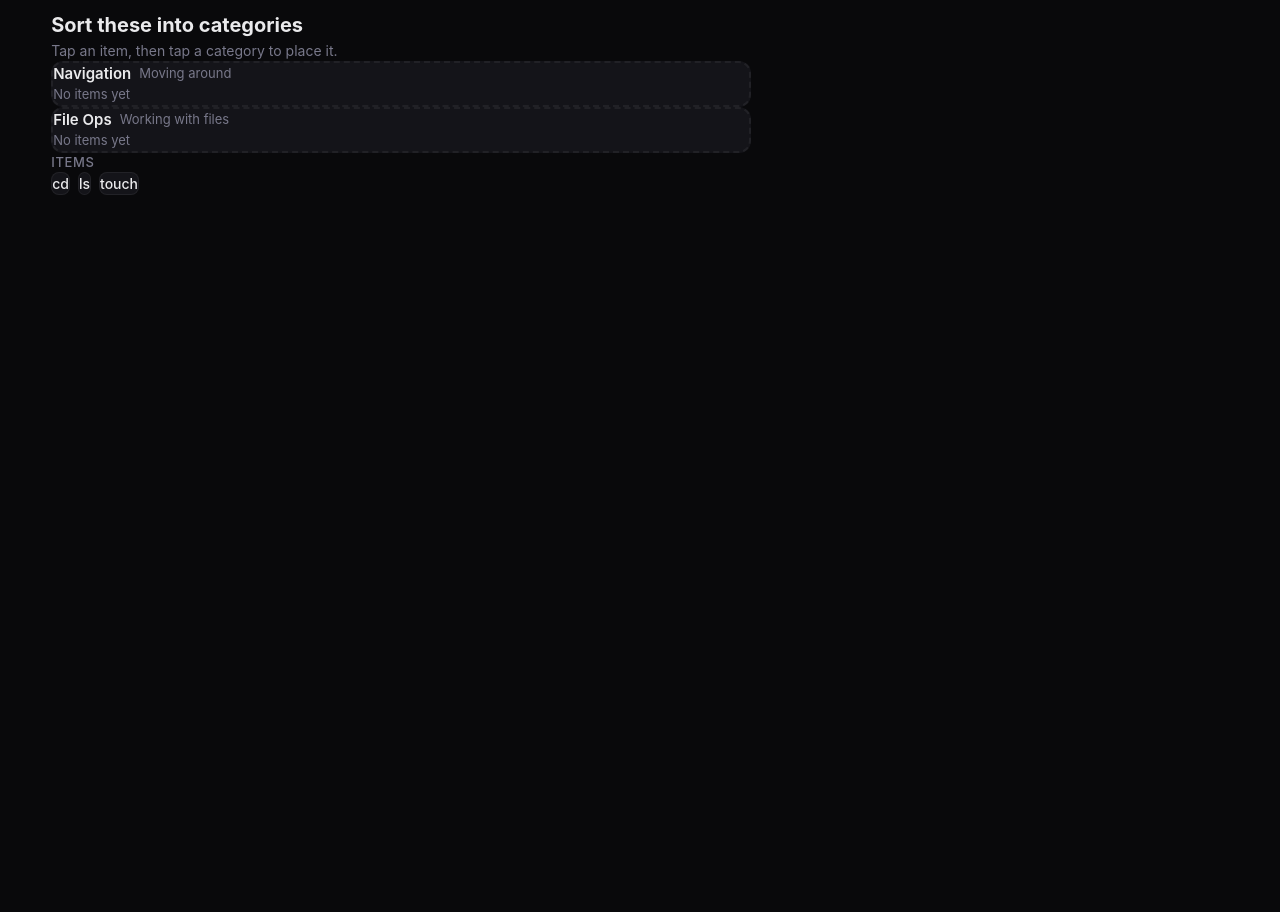
Test case: DragSort component › shows "Check Answers" after all items placed
The width and height of the screenshot is (1280, 912).
// Place cd in Navigation
Click the option "cd": [61, 184] box x1=51 y1=172 x2=70 y2=195
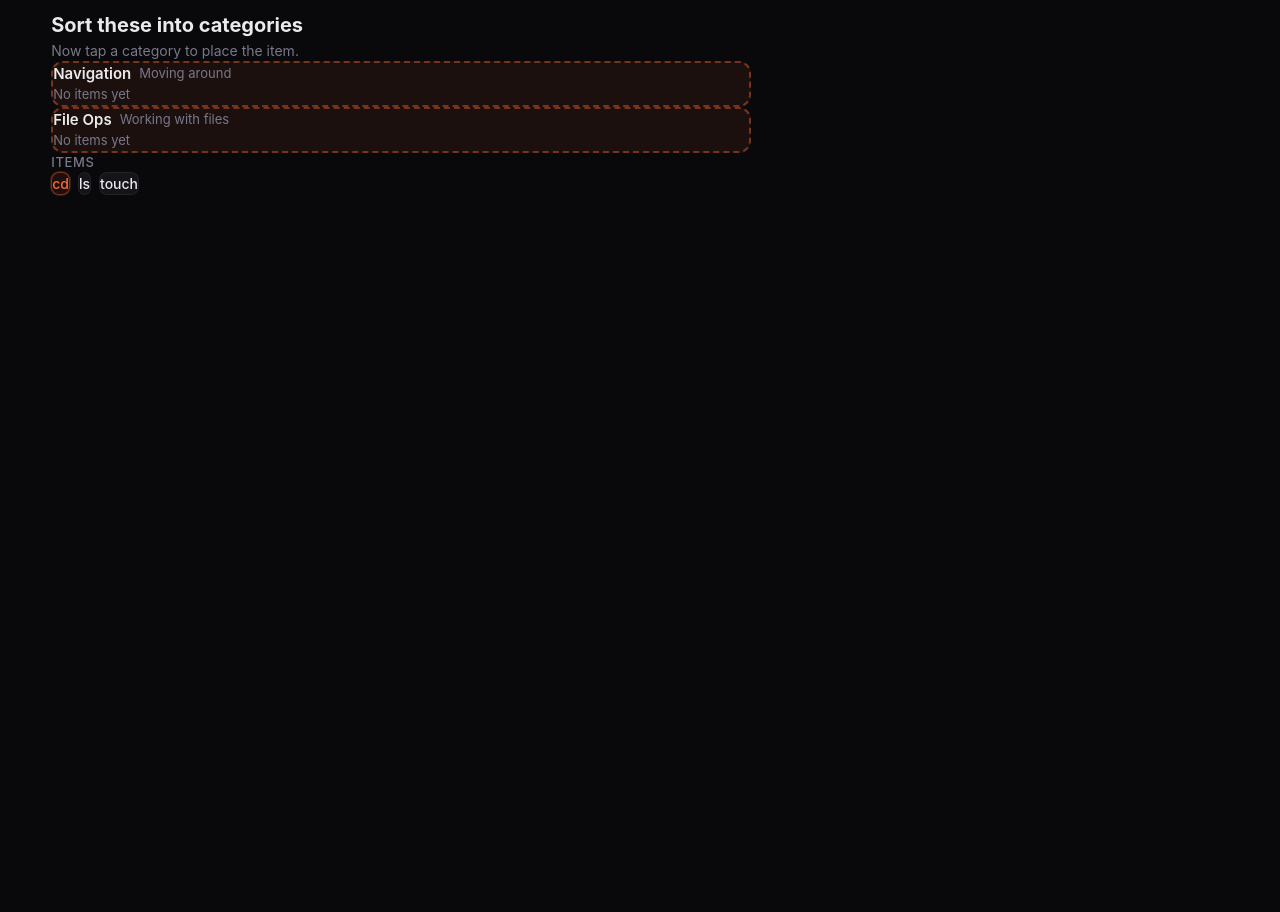
Click the button with aria-label "Category: Navigation": [92, 73] box x1=51 y1=60 x2=751 y2=106
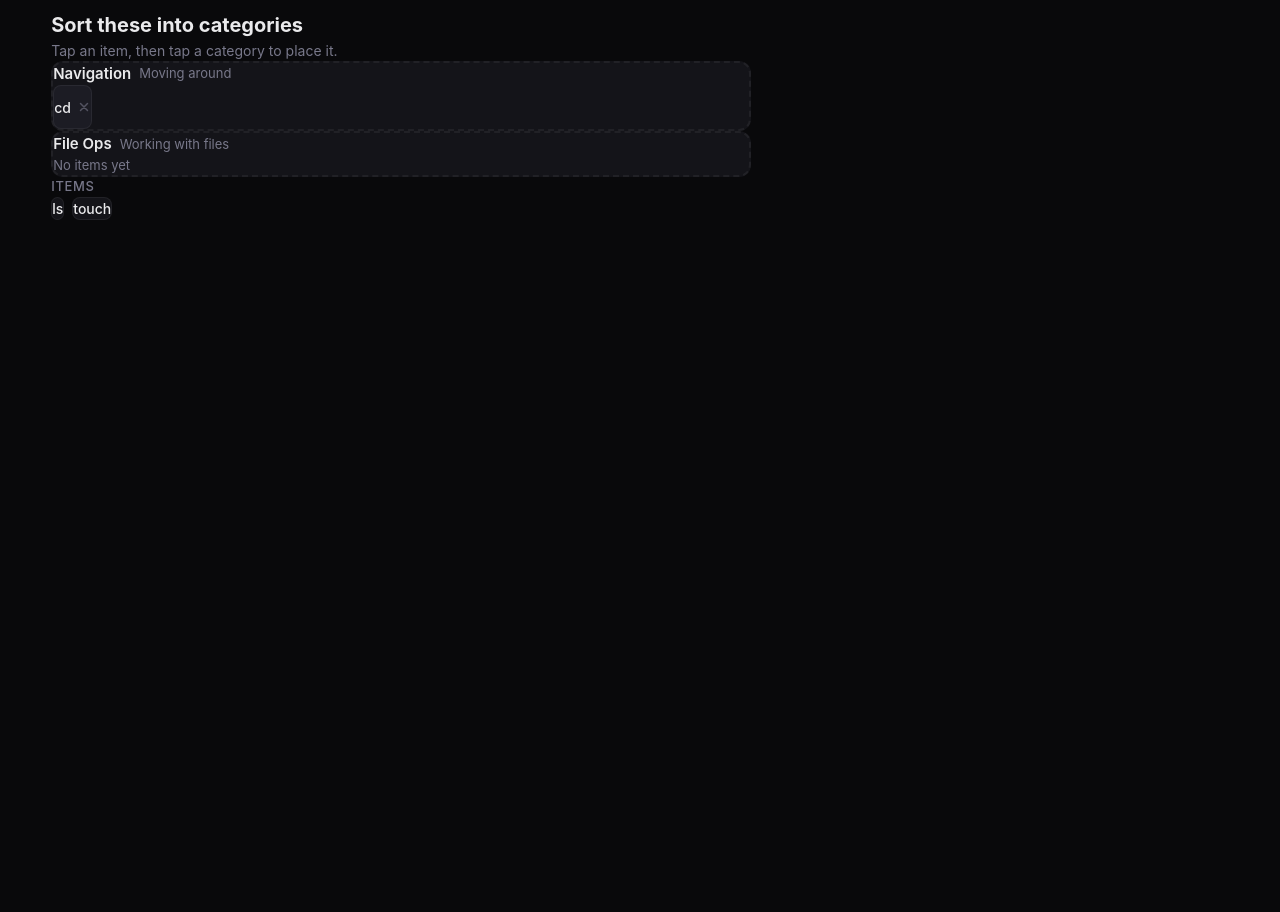
// Place ls in Navigation
Click the option "ls": [58, 208] box x1=51 y1=196 x2=64 y2=220
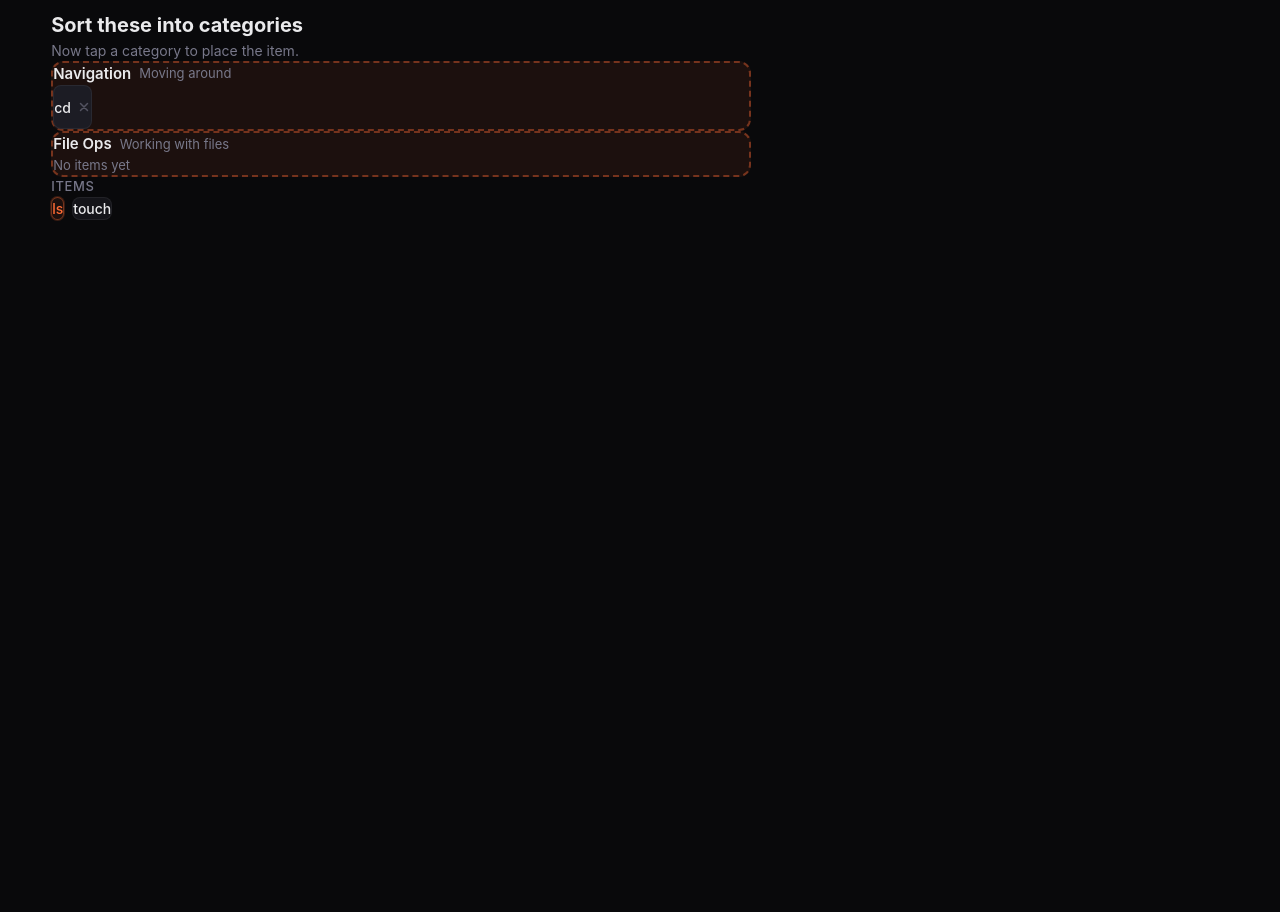
Click the button with aria-label "Category: Navigation": [92, 73] box x1=51 y1=60 x2=751 y2=131
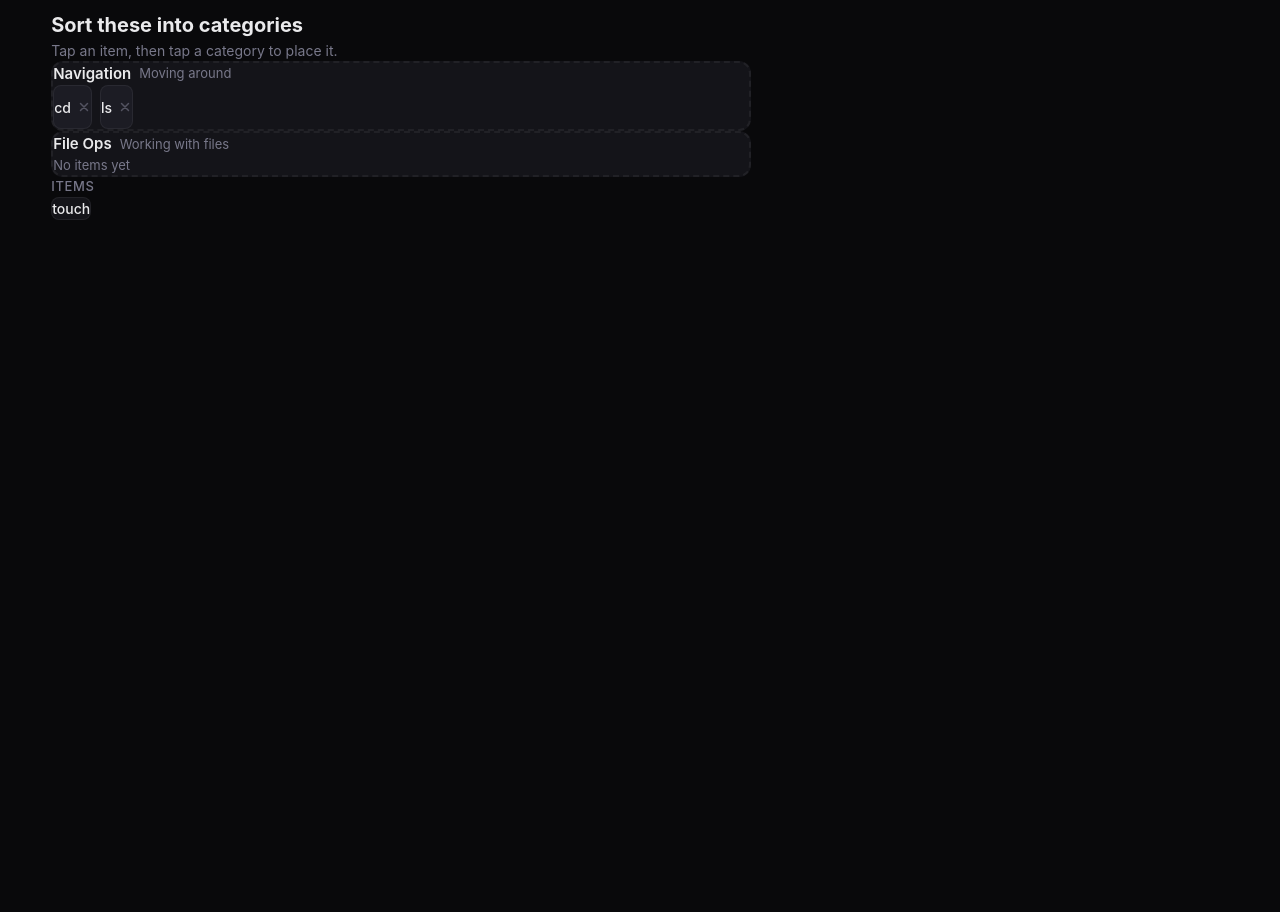
// Place touch in File Ops
Click the option "touch": [71, 208] box x1=51 y1=196 x2=91 y2=220
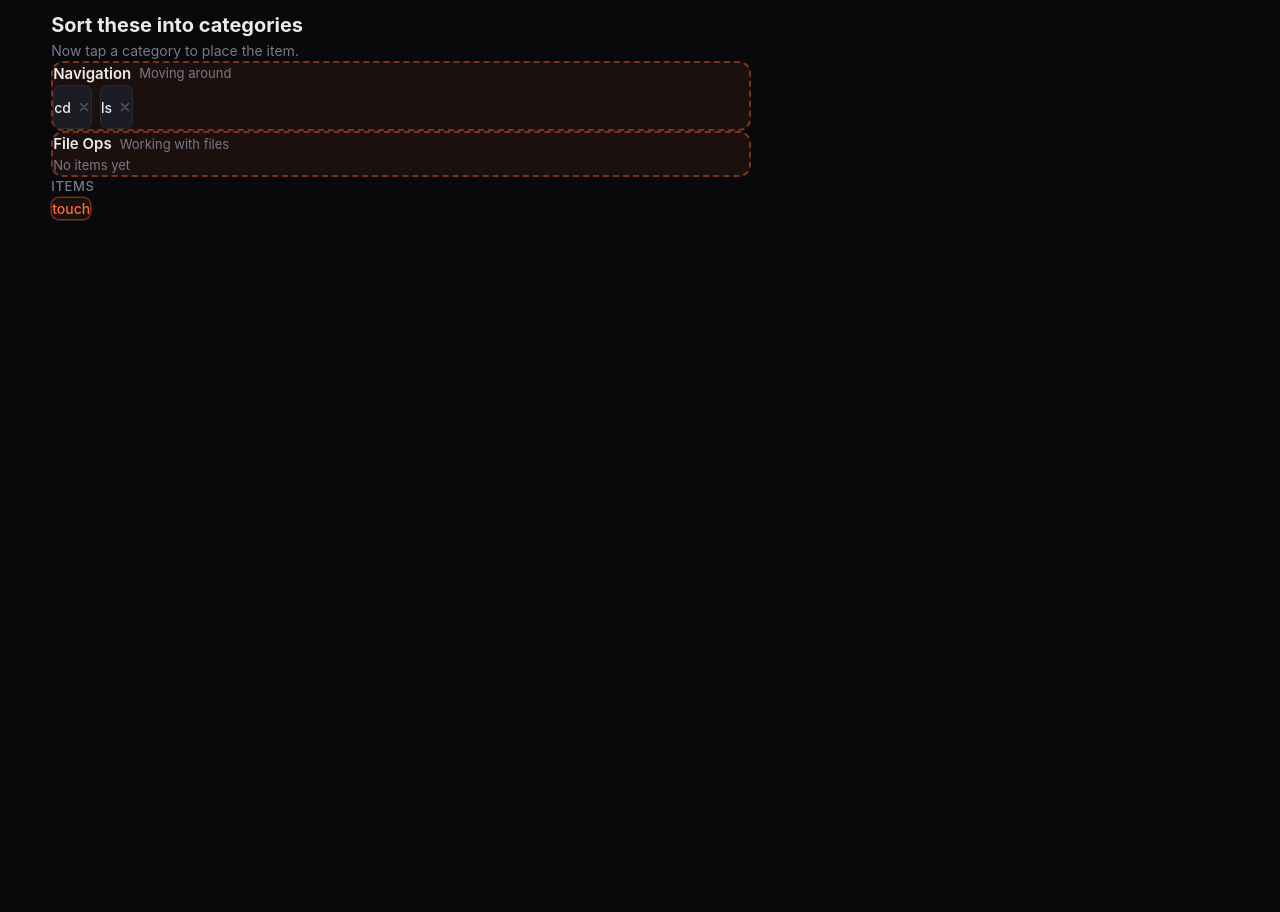
Click the button with aria-label "Category: File Ops": [82, 144] box x1=51 y1=131 x2=751 y2=177
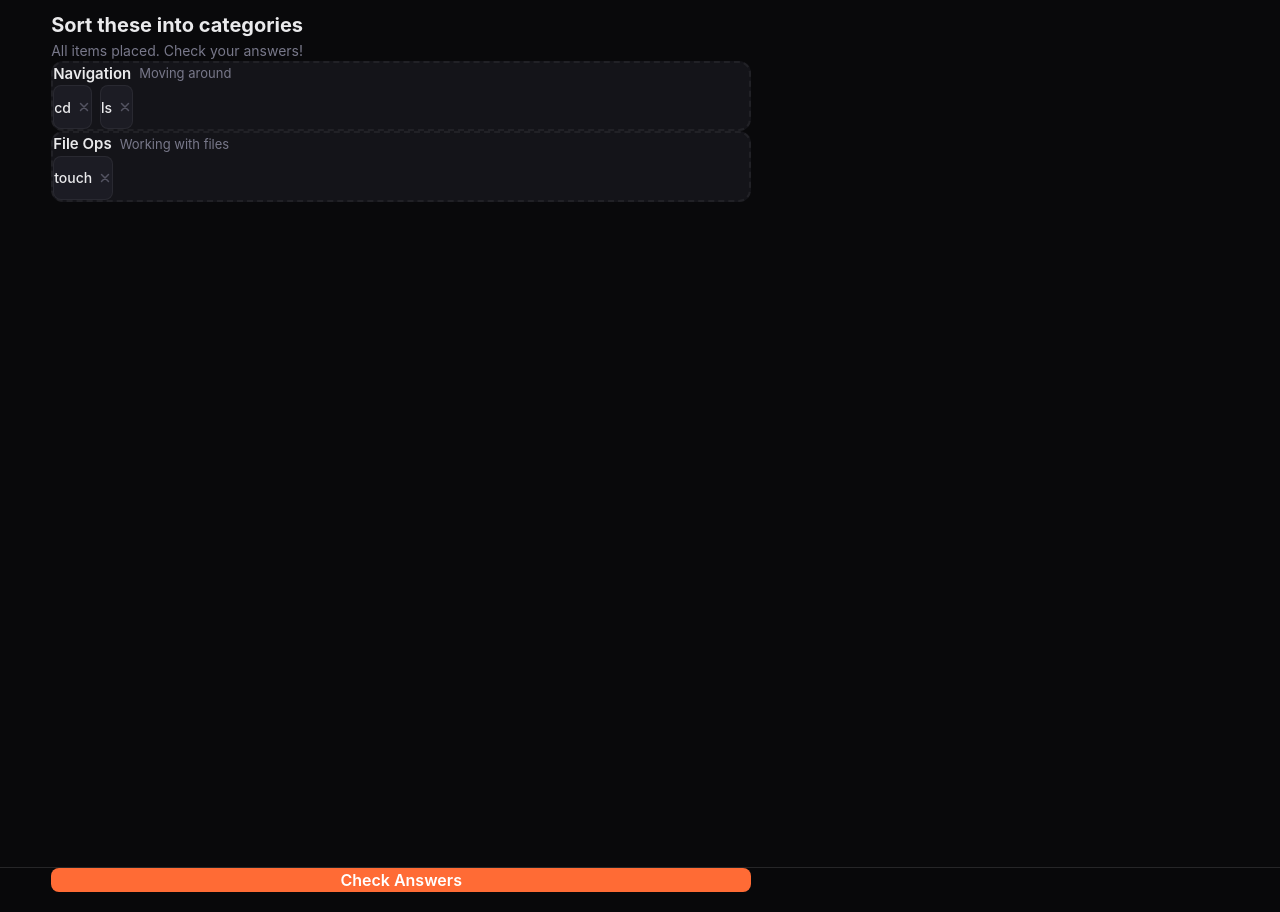
Check: the button "Check Answers" is shown, box x1=51 y1=868 x2=751 y2=892
